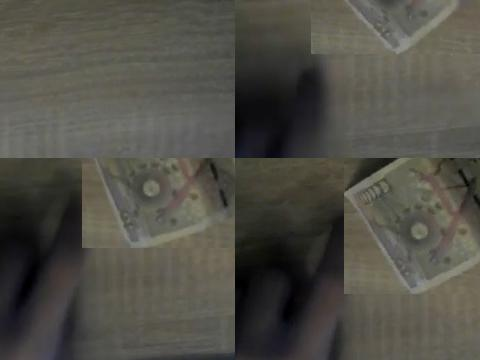10leva: (344, 158, 480, 294), (89, 158, 235, 248)
